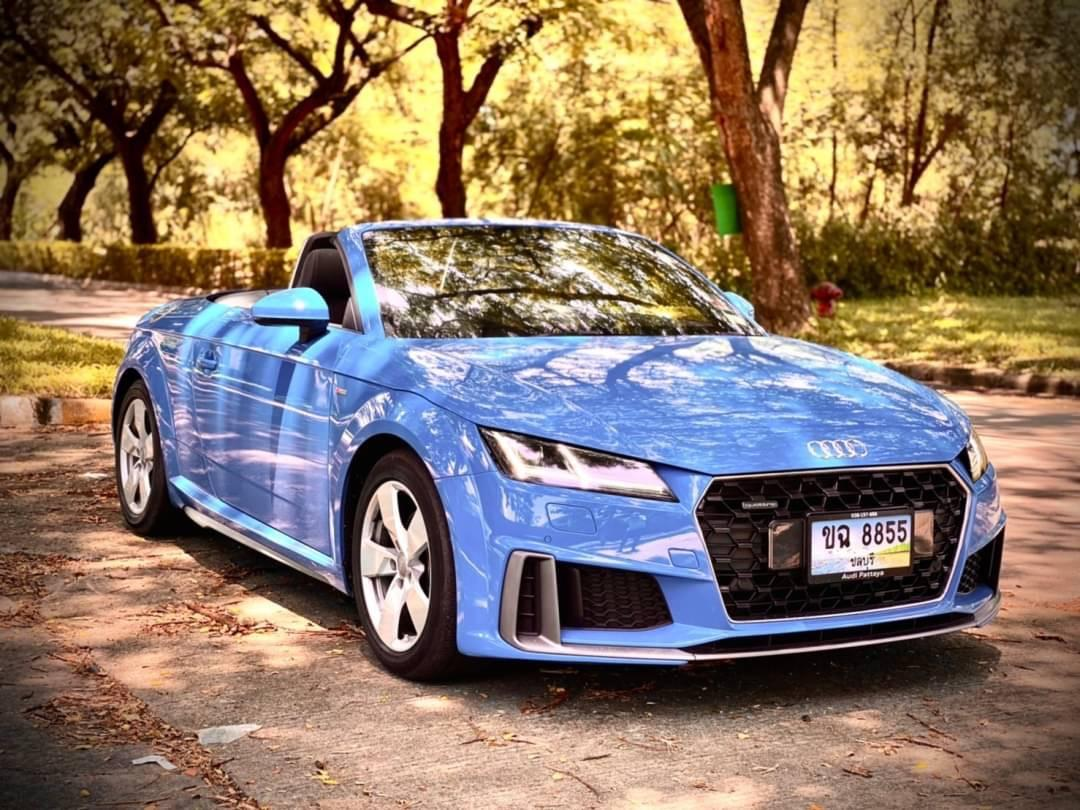license-plate: (802, 504, 917, 587)
